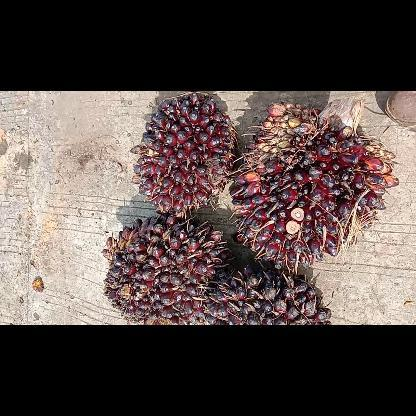TBS mentah: (230, 98, 402, 270), (100, 212, 234, 324), (129, 91, 239, 219), (206, 268, 336, 324)
